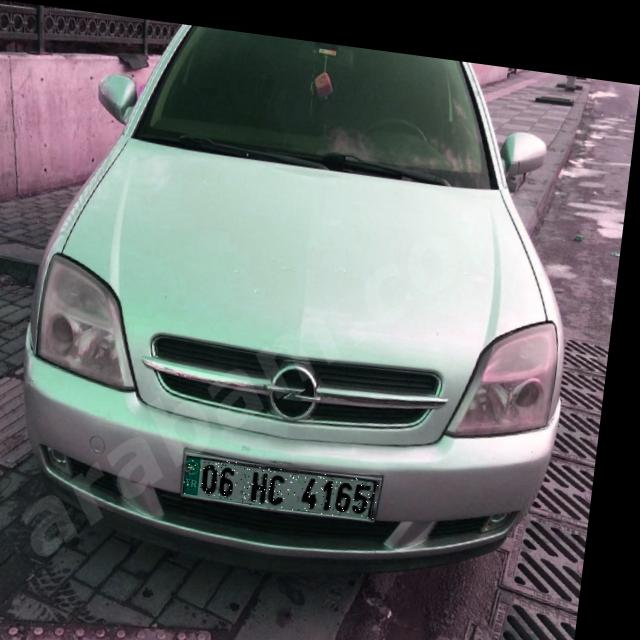license_plate: (194, 449, 390, 509)
